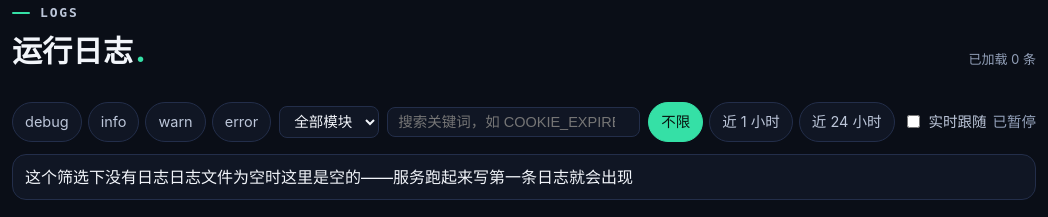
Test case: Logs 视图 › E4 实时跟随：打开后每 3 秒拉一次最新页，关闭后不再请求
The width and height of the screenshot is (1048, 217).
Click the checkbox labelled "实时跟随 已暂停" at [913, 122], box [906,115,920,128]
Wait 3000 ms
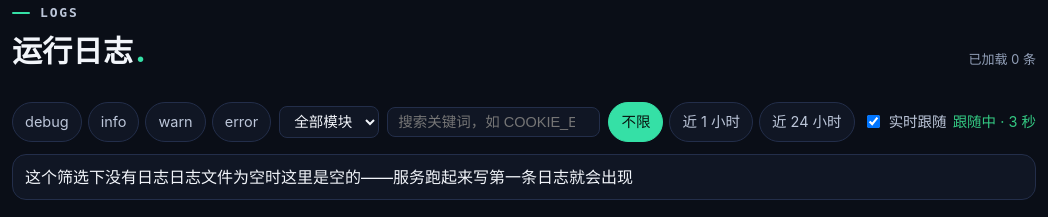
Result: the text with class "follow-state" shows "跟随中" at [953,113,1036,130]
Click the checkbox labelled "实时跟随 跟随中 · 3 秒" at [873, 122], box [867,115,880,128]
Wait 9000 ms
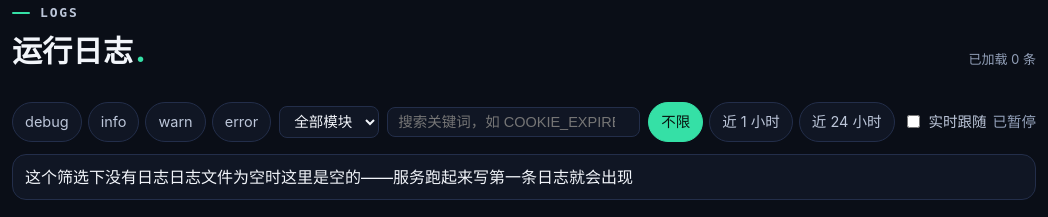
Result: the text with class "follow-state" reads "已暂停" at [992,113,1036,130]
